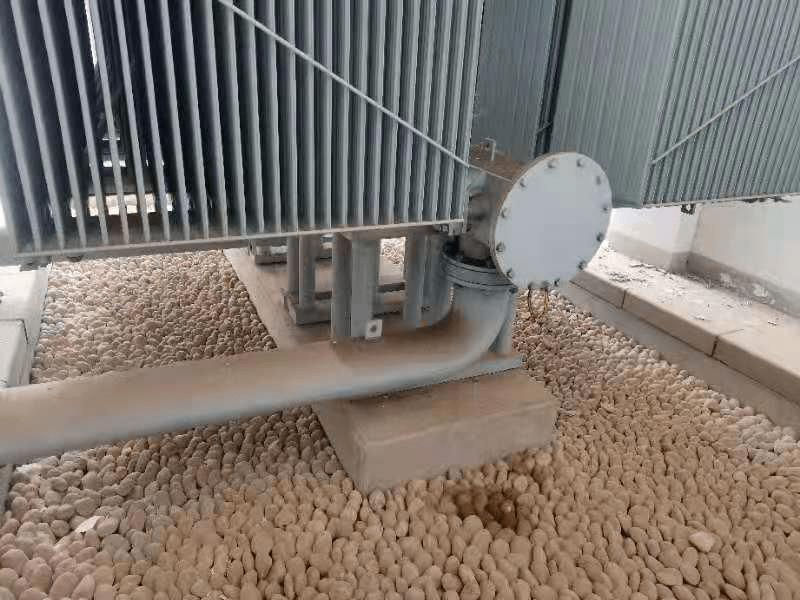oil: (449, 452, 564, 541)
